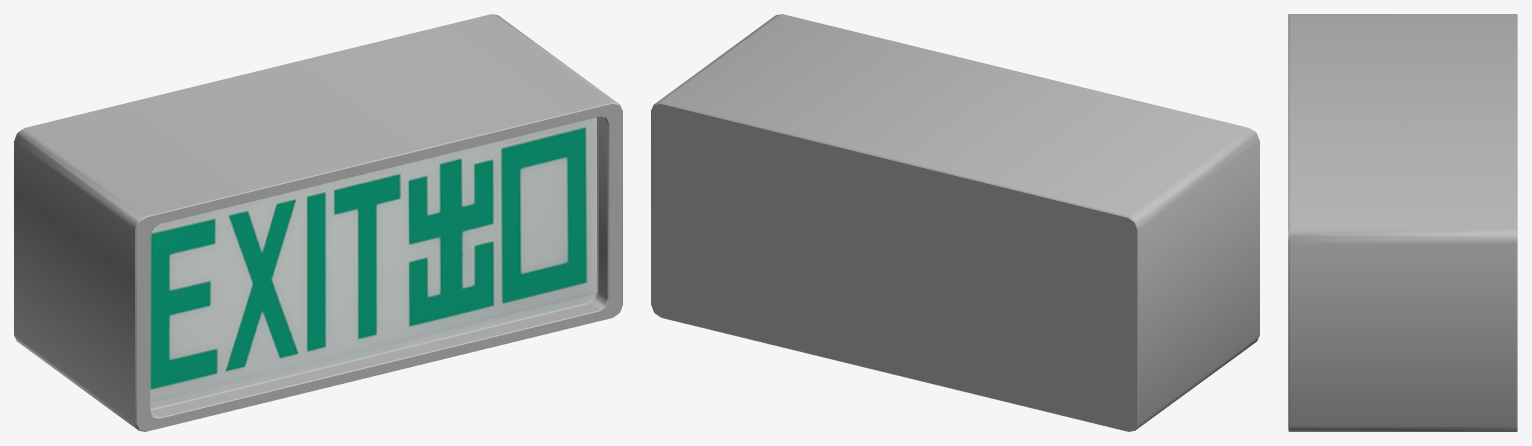
The model's file is Exit Sign.fbx.
The picture shows the model from 3 angles, left to right: view 1: azimuth 30°, elevation 25°; view 2: azimuth 150°, elevation 25°; view 3: azimuth 270°, elevation 25°; orthographic projection. The views are drawn at different scales.
Parts seen in each view (by area): view 1: Sign_LP; view 2: Sign_LP; view 3: Sign_LP.
Boxes of the visible parts, box(x1,y1,x2,y2) form: Sign_LP: box(14, 14, 622, 431); Sign_LP: box(651, 14, 1259, 431); Sign_LP: box(1288, 14, 1517, 431).
Bounding box in the file's own units: 47.39 × 20 × 20.53.
